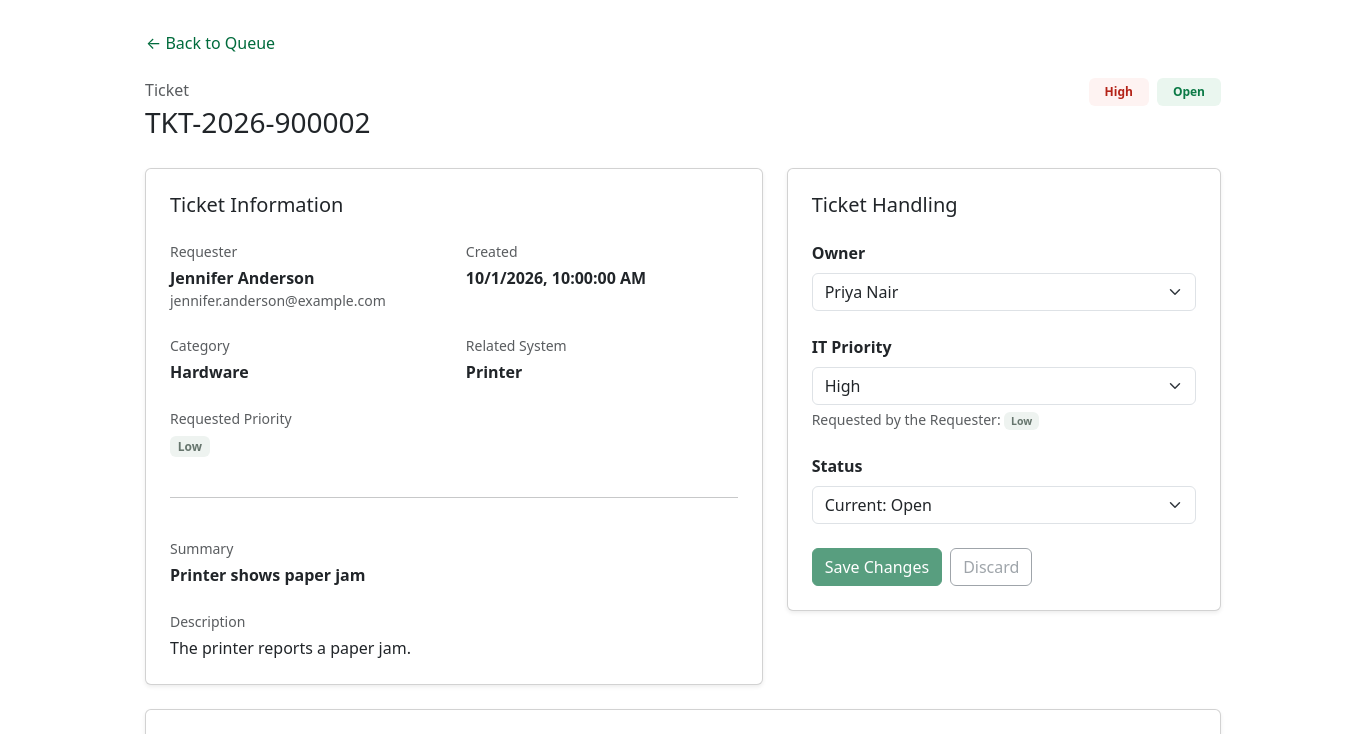
Test case: Status control › UI-16 sends expectedVersion, then reloads the Ticket, actions, and timeline and shows Changes saved.
Select "Elena Rossi" in the dropdown labelled "Owner" at (1004, 292), box [812,273,1196,311]
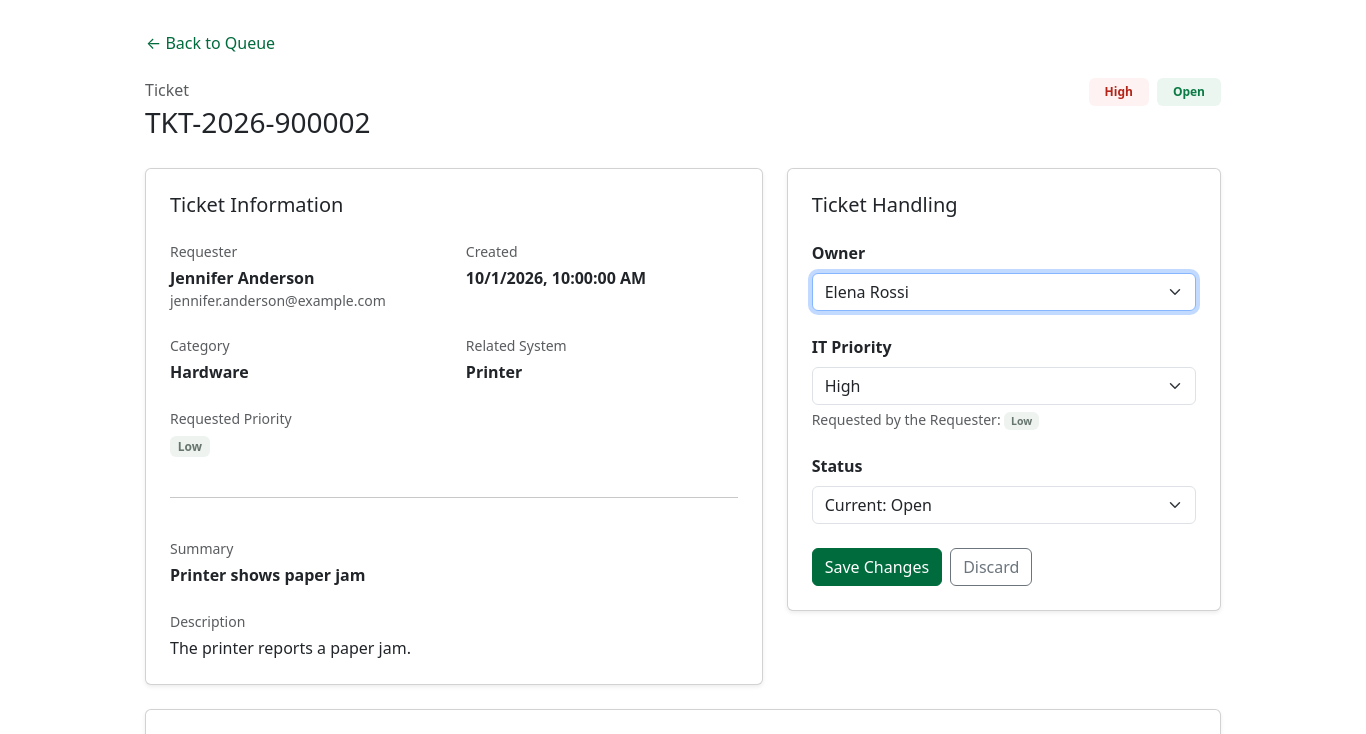
Select "In Progress" in the dropdown labelled "Status" at (1004, 505), box [812,486,1196,524]
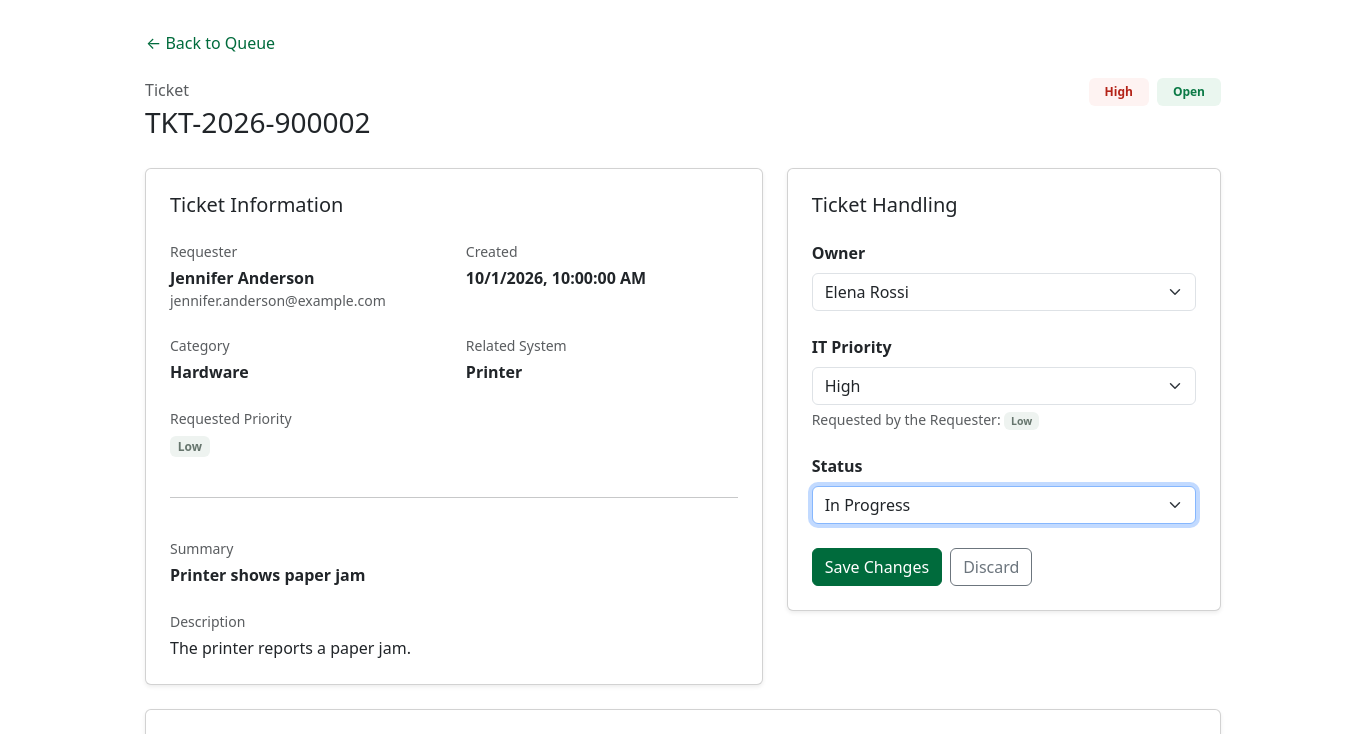
Click the button "Save Changes" at (877, 567), box [812,548,942,586]
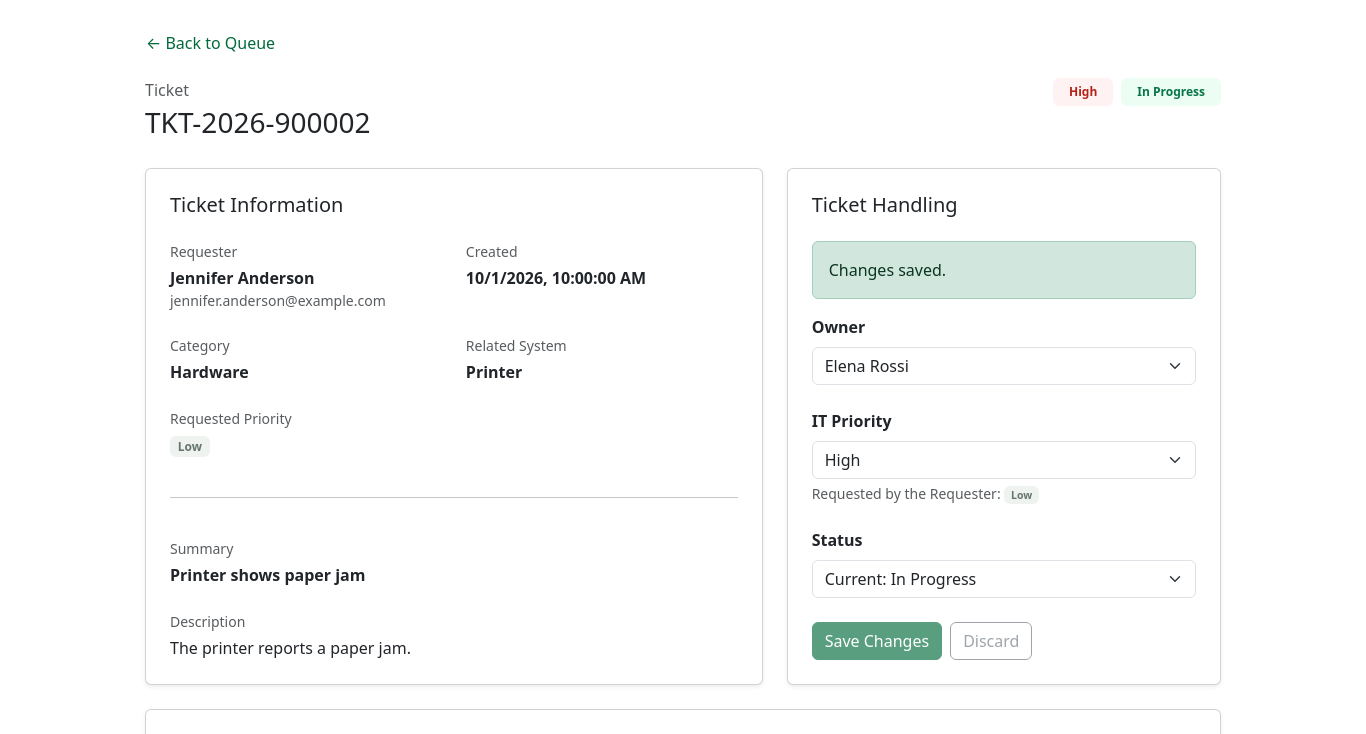
Expected: the text "Changes saved." is shown, [812,241,1196,299]
Expected: the text "In Progress" is shown, [1121,78,1221,106]
